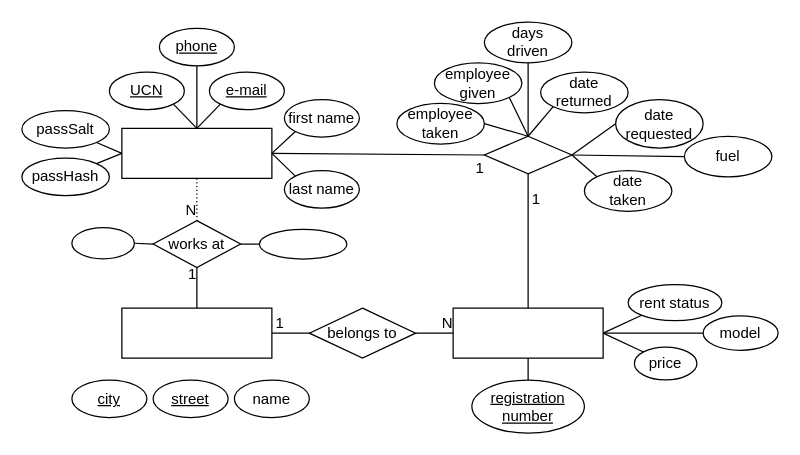
Some shapes in this 800 by 455 pixel diagram are drawn without their labels. The centre of each missing label's shape, as x and y in pixels:
"Car" belongs at (527,332).
"date hired" belongs at (302,243).
"Rental Place" belongs at (196,332).
"rents" belongs at (527,154).
"salary" belongs at (102,242).
"User" belongs at (196,152).
